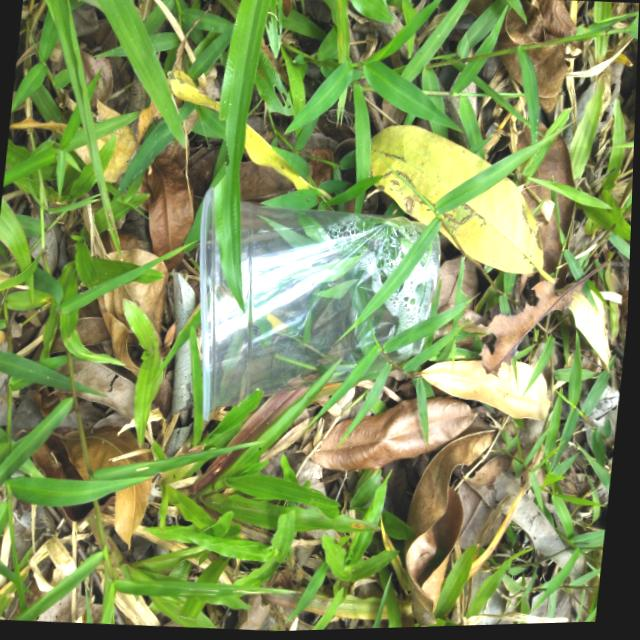Plastic: (137, 163, 476, 476)
